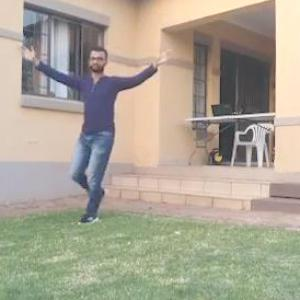takeoff: (30, 50, 185, 226)
